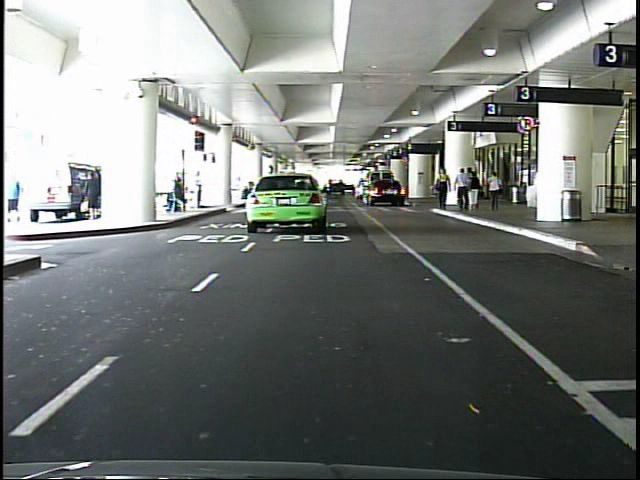person: (430, 166, 453, 215), (483, 169, 506, 218), (85, 170, 107, 220), (452, 167, 473, 217), (468, 171, 483, 214), (194, 170, 208, 213)
